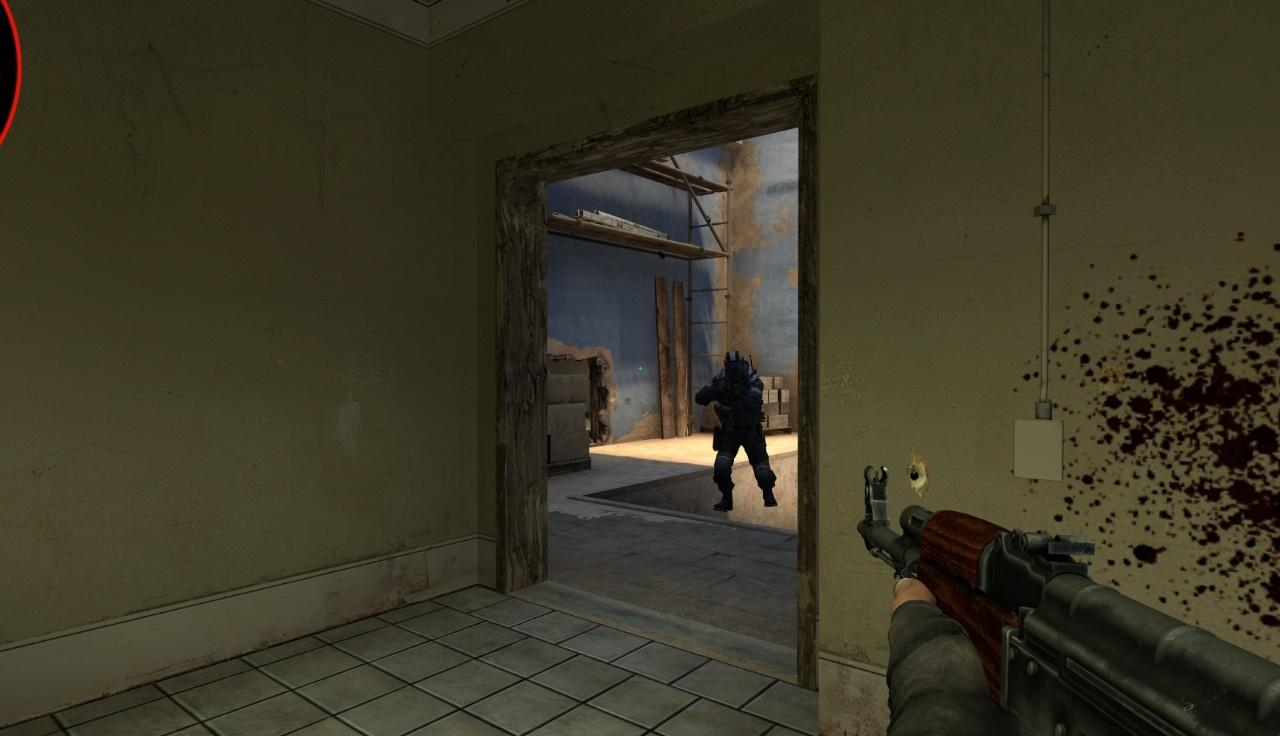ct: (707, 351, 777, 507)
cthead: (724, 352, 746, 382)
rifle: (858, 464, 1280, 735)
